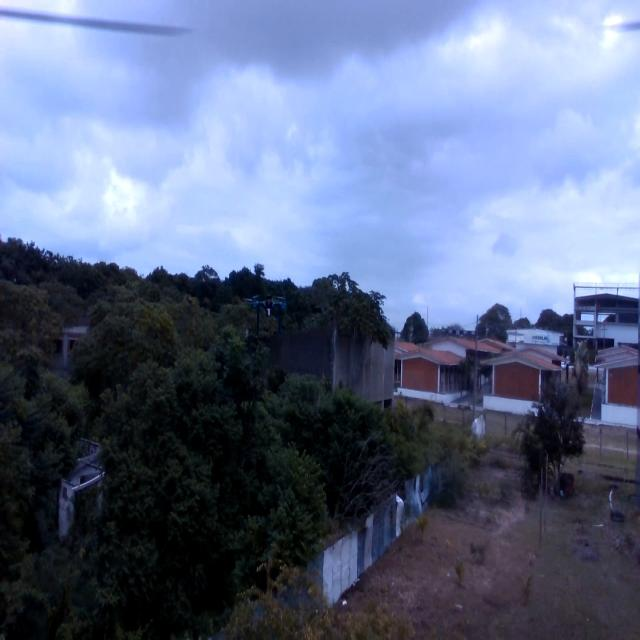-uav-: (238, 284, 299, 346)
